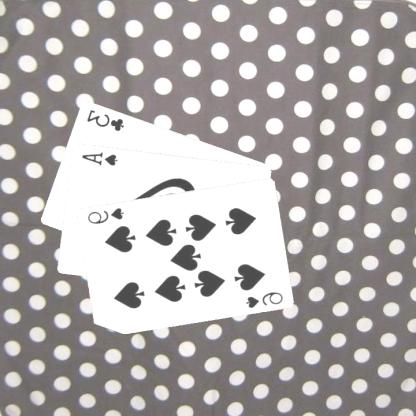3C: (86, 106, 127, 132)
9S: (86, 204, 127, 226), (244, 289, 286, 309)
AS: (80, 148, 120, 166)
